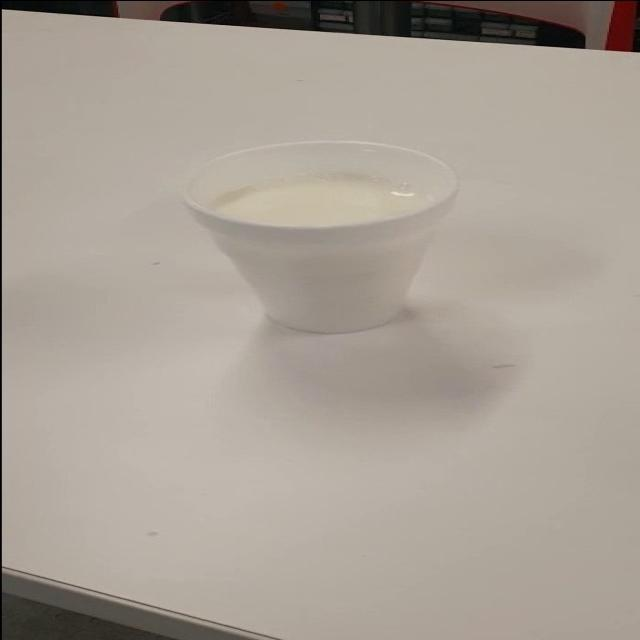Milk: (170, 122, 538, 336)
